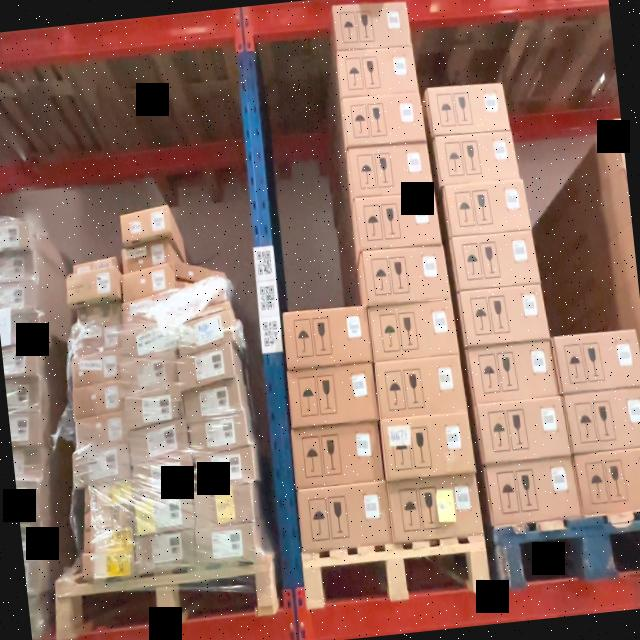box: (485, 454, 583, 525), (296, 480, 392, 552), (476, 394, 570, 464), (387, 473, 482, 542), (372, 354, 468, 422), (382, 412, 474, 481), (291, 422, 384, 489), (286, 362, 376, 427), (368, 298, 458, 362), (282, 304, 370, 369), (444, 177, 536, 239), (362, 242, 450, 306), (555, 329, 640, 394), (459, 284, 548, 346), (468, 342, 557, 404), (451, 230, 538, 290), (354, 191, 440, 251), (432, 128, 520, 186), (348, 142, 433, 201), (567, 386, 640, 454), (342, 90, 426, 147), (336, 44, 420, 100), (429, 80, 510, 137), (577, 447, 640, 514), (332, 0, 412, 52), (193, 524, 258, 568), (134, 532, 196, 576), (193, 486, 256, 529), (195, 446, 258, 489), (132, 457, 195, 500), (188, 414, 251, 454), (130, 422, 191, 463), (126, 387, 186, 428), (133, 496, 194, 536), (72, 444, 130, 486), (177, 347, 236, 388), (175, 308, 234, 349), (182, 380, 242, 420), (123, 354, 181, 394), (71, 347, 123, 388), (122, 320, 178, 358), (173, 282, 230, 317), (68, 264, 120, 302), (74, 413, 126, 450), (71, 382, 122, 418), (122, 265, 175, 299), (122, 205, 172, 241), (123, 294, 177, 326), (80, 481, 132, 513), (124, 238, 172, 271), (70, 299, 121, 329), (69, 328, 120, 357), (172, 256, 224, 284), (81, 552, 132, 580), (82, 526, 132, 554), (85, 508, 134, 536), (0, 214, 30, 251), (0, 249, 34, 281)
